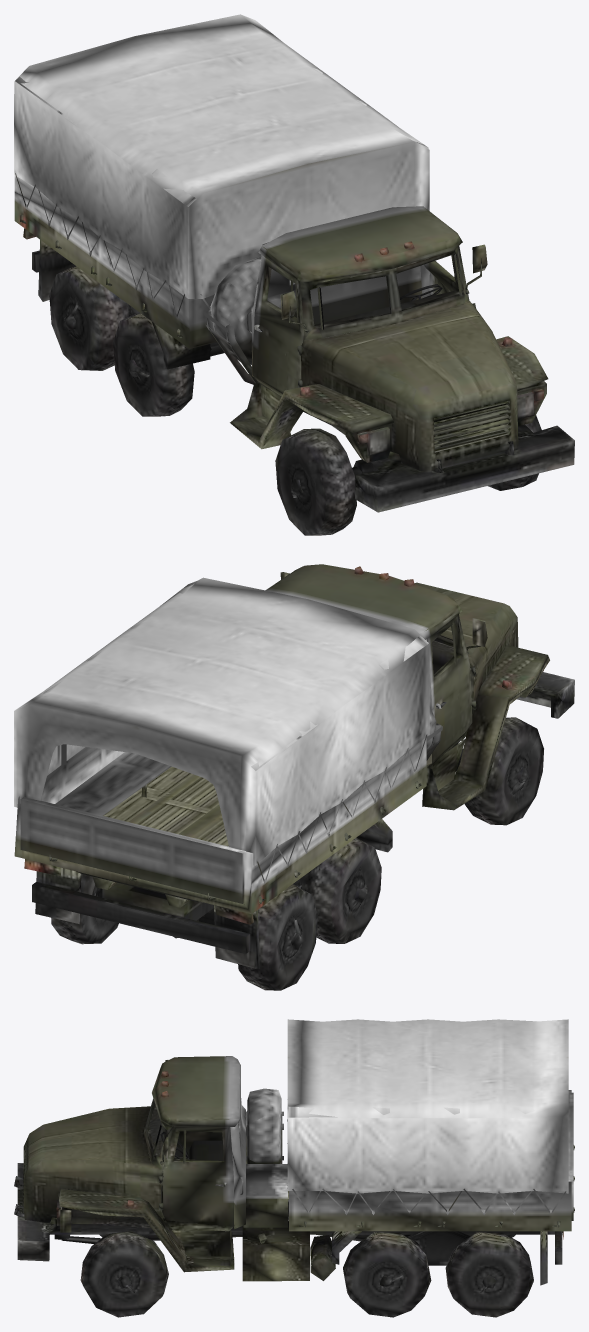
The model's file is freight.glb.
3 renders of one model, top to bottom at view 1: azimuth 30°, elevation 25°; view 2: azimuth 150°, elevation 25°; view 3: azimuth 270°, elevation 25°, orthographic. The views are drawn at different scales.
Visible parts, largest first — view 1: freight; view 2: freight; view 3: freight.
Part boxes in pixels (x1,y1,x2,y2): freight: (14, 14, 574, 535); freight: (14, 564, 574, 990); freight: (14, 1019, 574, 1317).
Size of the model in its own units: 2.99 by 3.2 by 7.4.
Materials: 2 (2 with a texture image).
